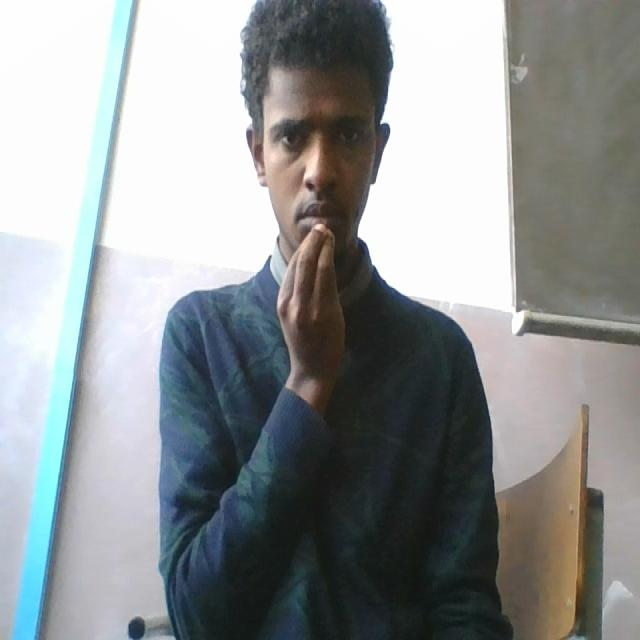meblat: (279, 206, 364, 404)
